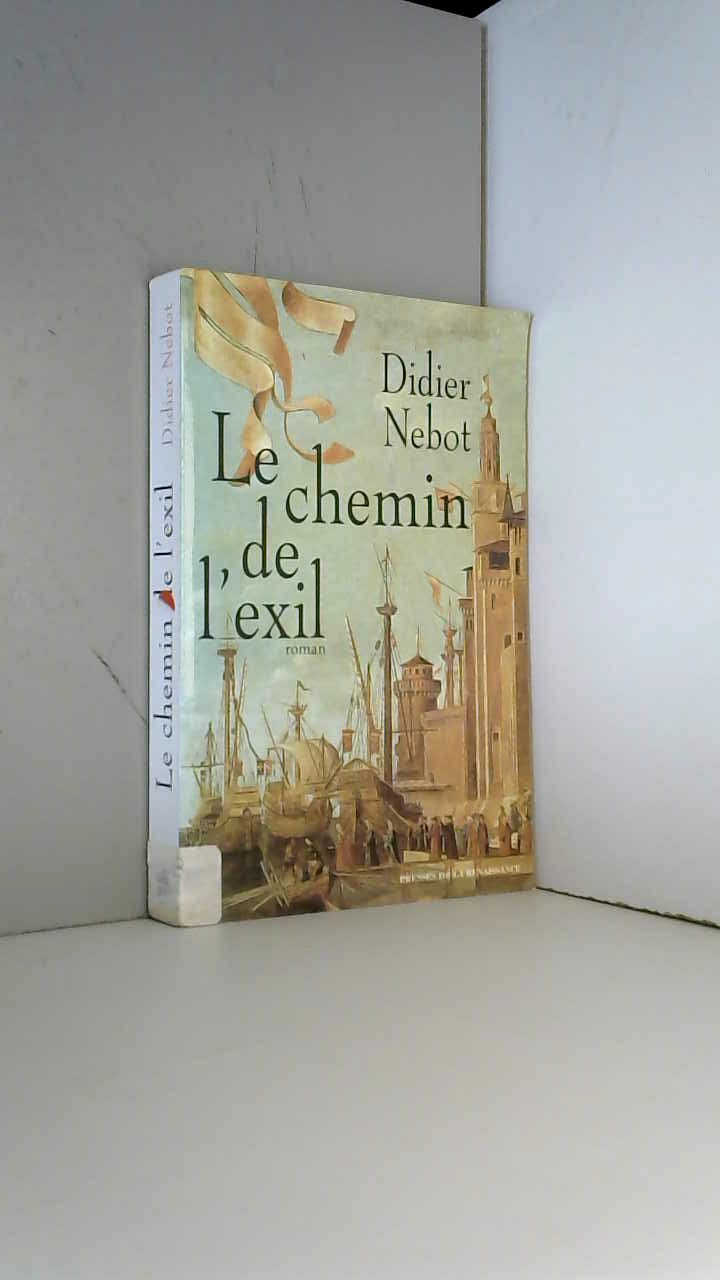book: (109, 213, 579, 960)
